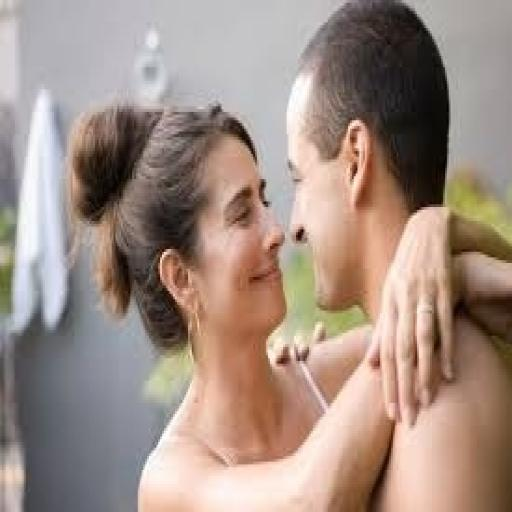hugging: (65, 95, 510, 509), (279, 0, 510, 509)
